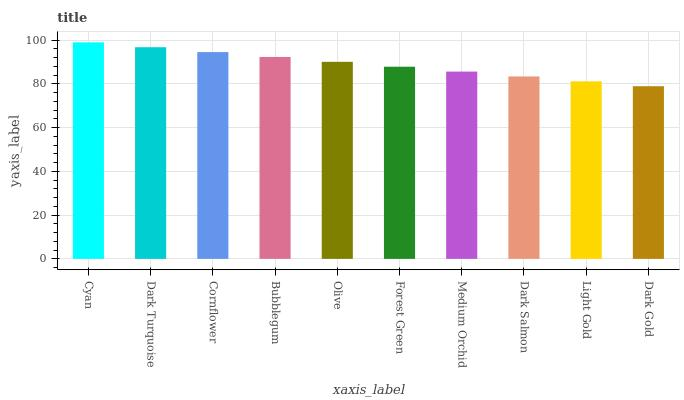axis: (48, 35, 61, 270)
label: (451, 278, 476, 372), (140, 278, 161, 370), (514, 280, 535, 358), (637, 277, 660, 344), (391, 279, 410, 360), (578, 278, 598, 346), (203, 278, 222, 346), (266, 278, 283, 348), (79, 278, 98, 316), (329, 279, 346, 314)
rectangle: (136, 46, 166, 260), (197, 53, 228, 259), (73, 42, 102, 258), (260, 58, 291, 259), (323, 62, 352, 258), (570, 82, 602, 258), (447, 72, 477, 259), (384, 67, 413, 258), (510, 77, 540, 260), (633, 88, 664, 258)
title: (51, 5, 95, 27)
